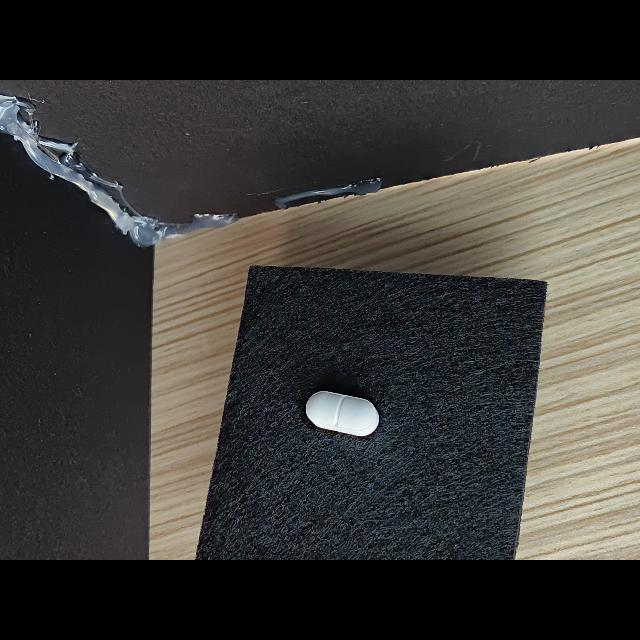Intact Pill: (306, 391, 379, 436)
